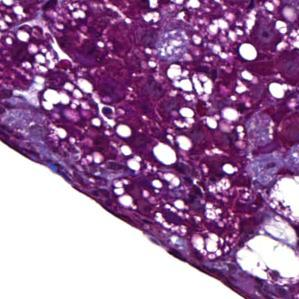ballooning: (235, 234, 299, 287), (265, 173, 299, 225)
